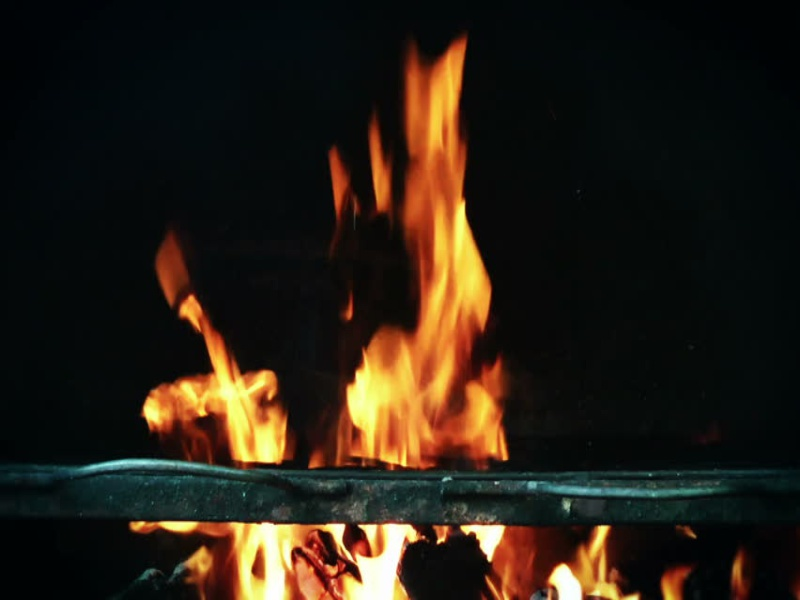fire: (309, 40, 514, 600), (146, 223, 292, 463), (130, 519, 296, 600), (659, 533, 756, 600), (546, 527, 634, 600)
